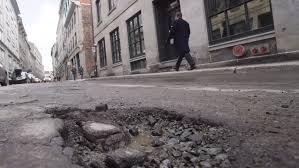pothole: (40, 100, 231, 168)
